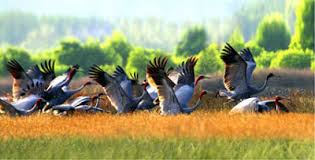seu_dau_do: (145, 59, 213, 116), (5, 60, 83, 100), (93, 68, 153, 112)
